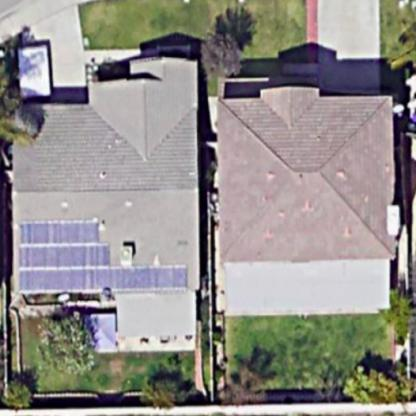solar_panel: (9, 217, 197, 299)
